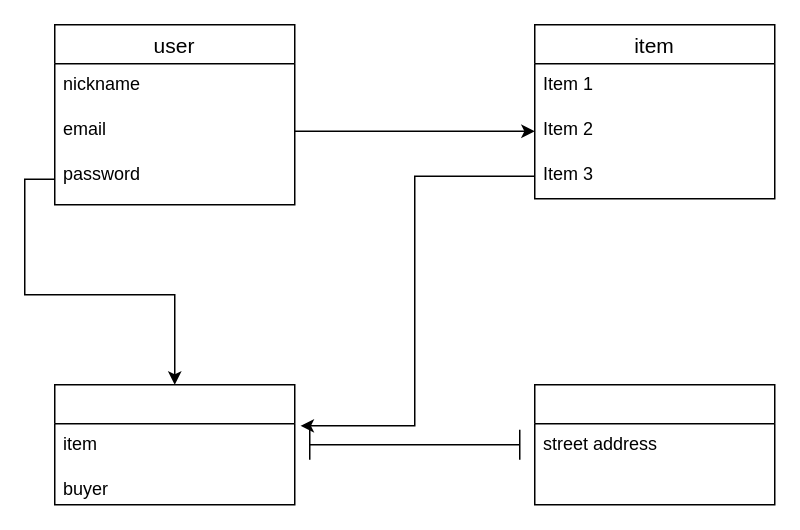
Some shapes in this 800 by 530 pixel diagram are drawn without their labels. The shapes that lost their labels are listed below. From the top down, each one's box as (x1, y1, x2, y2) in pixels, then its label:
(53, 383, 295, 505): purchase
(533, 383, 775, 505): place
